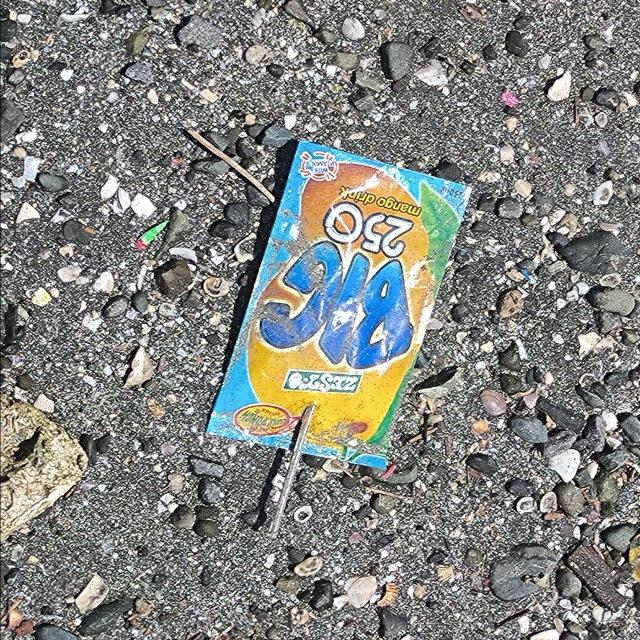plastic_waste: (202, 143, 474, 474)
